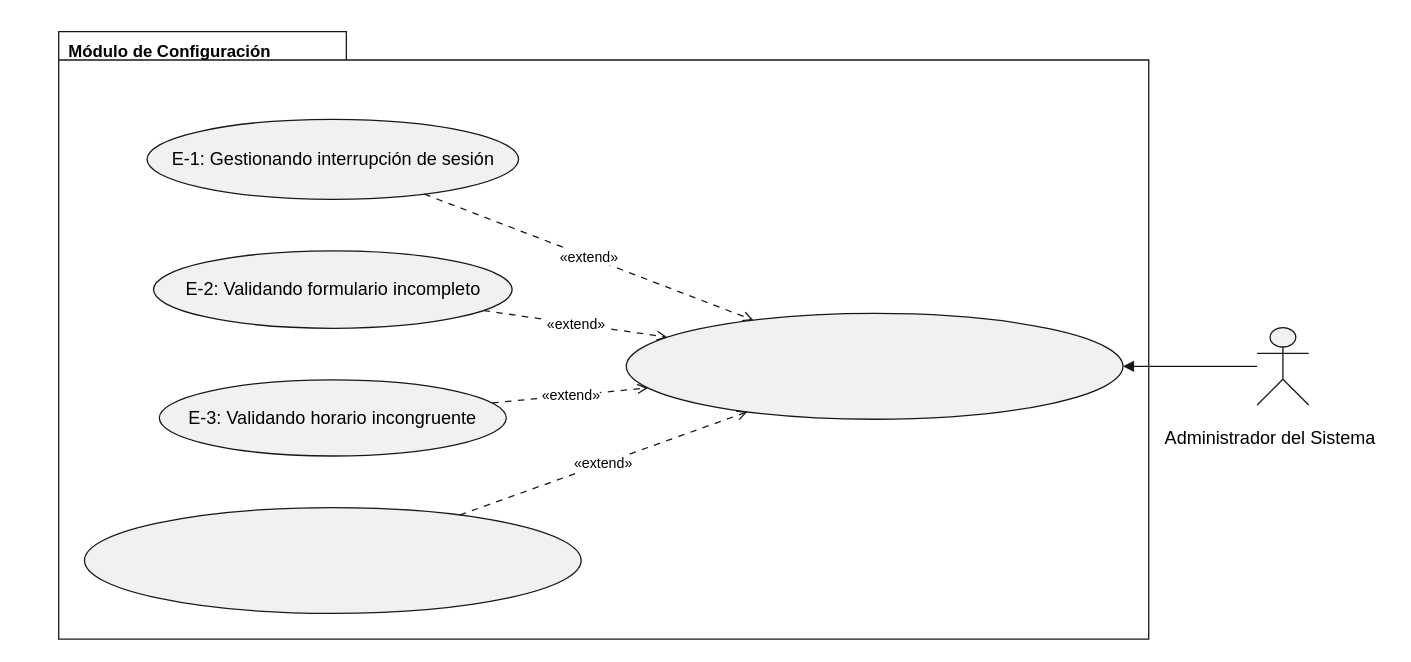
The diagram is 1411 pixels wide and 662 high, and some of its shapes have lost their labels. The box of each missing label's shape, as (x1, y1, x2, y2) in pixels:
CU-14: Configurando la ventana operativa del sistema: (625, 312, 1123, 419)
E-4: Gestionando error de conexión con base de datos: (83, 506, 581, 613)
